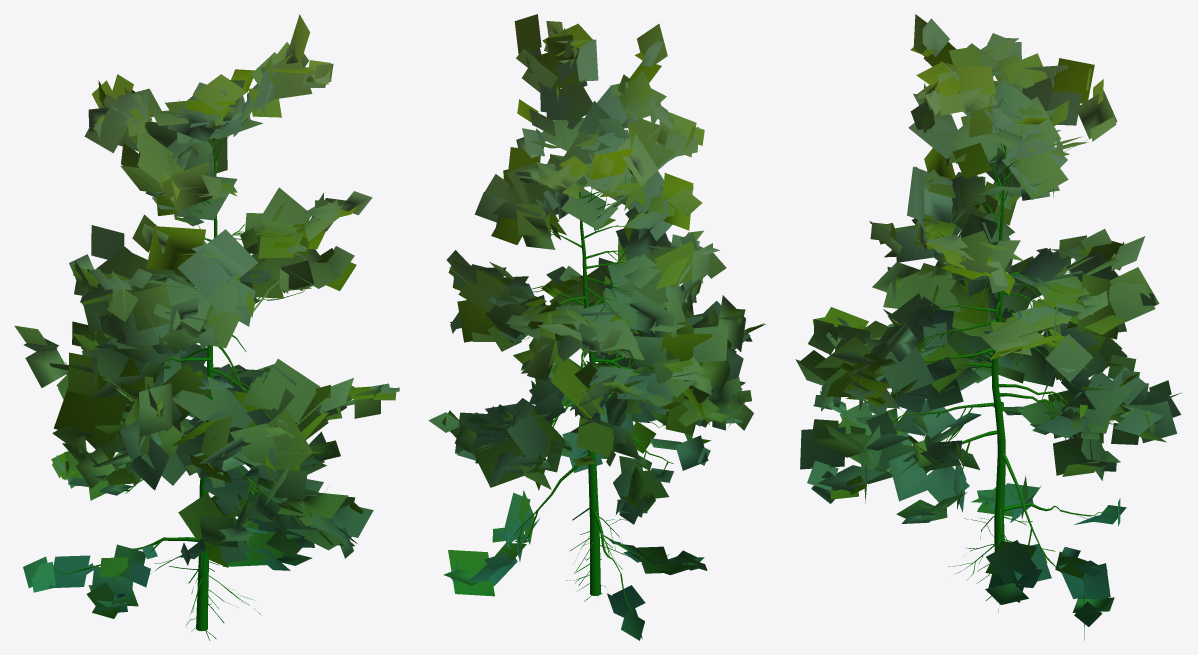
File: pine_sapling_medium_1.glb
3 views of the same model, side by side, from view 1: azimuth 30°, elevation 25°; view 2: azimuth 150°, elevation 25°; view 3: azimuth 270°, elevation 25° (orthographic). The views are drawn at different scales.
Parts seen in each view (by area): view 1: pine_sapling_medium_1_cards, pine_sapling_medium_1_trunk; view 2: pine_sapling_medium_1_cards, pine_sapling_medium_1_trunk; view 3: pine_sapling_medium_1_cards, pine_sapling_medium_1_trunk.
Part boxes in pixels (x1,y1,x2,y2): pine_sapling_medium_1_cards: (14, 14, 399, 618); pine_sapling_medium_1_trunk: (43, 110, 351, 640); pine_sapling_medium_1_cards: (428, 14, 765, 640); pine_sapling_medium_1_trunk: (497, 78, 728, 611); pine_sapling_medium_1_cards: (795, 14, 1181, 640); pine_sapling_medium_1_trunk: (815, 80, 1148, 612).
Bounding box in the file's own units: 4.79 × 9.19 × 5.53.
